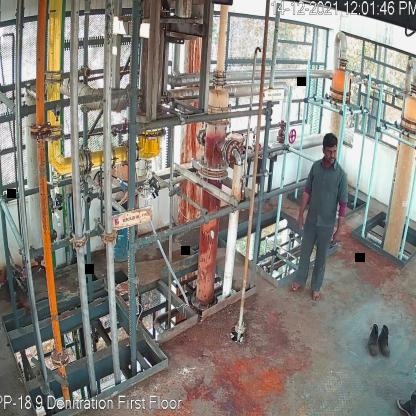no_shoes: (289, 281, 306, 292), (310, 289, 320, 304)
shoes: (367, 323, 382, 357), (379, 325, 392, 356)
